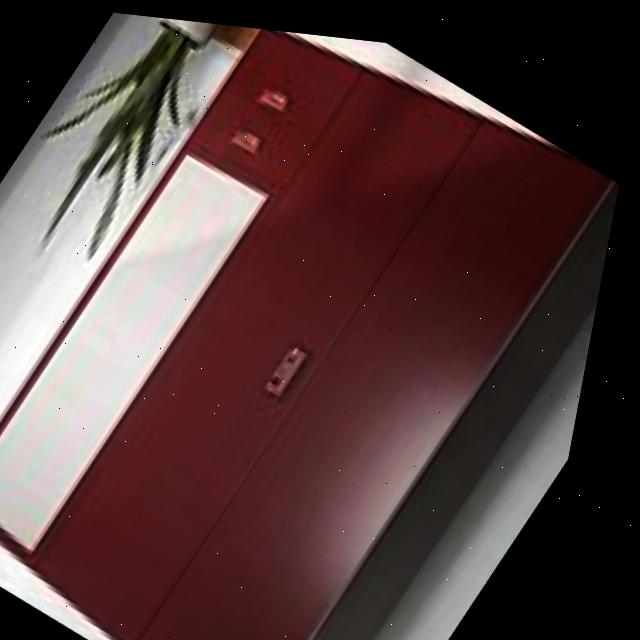dolap: (0, 1, 640, 640)
